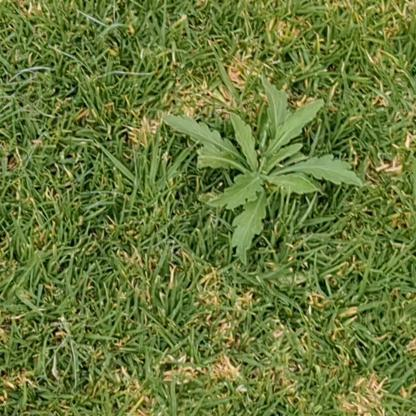Weeds: (162, 73, 363, 266)
